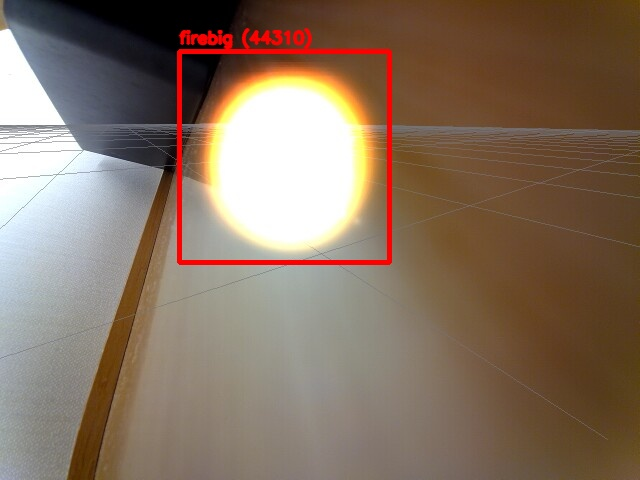firebig: (179, 51, 389, 262)
